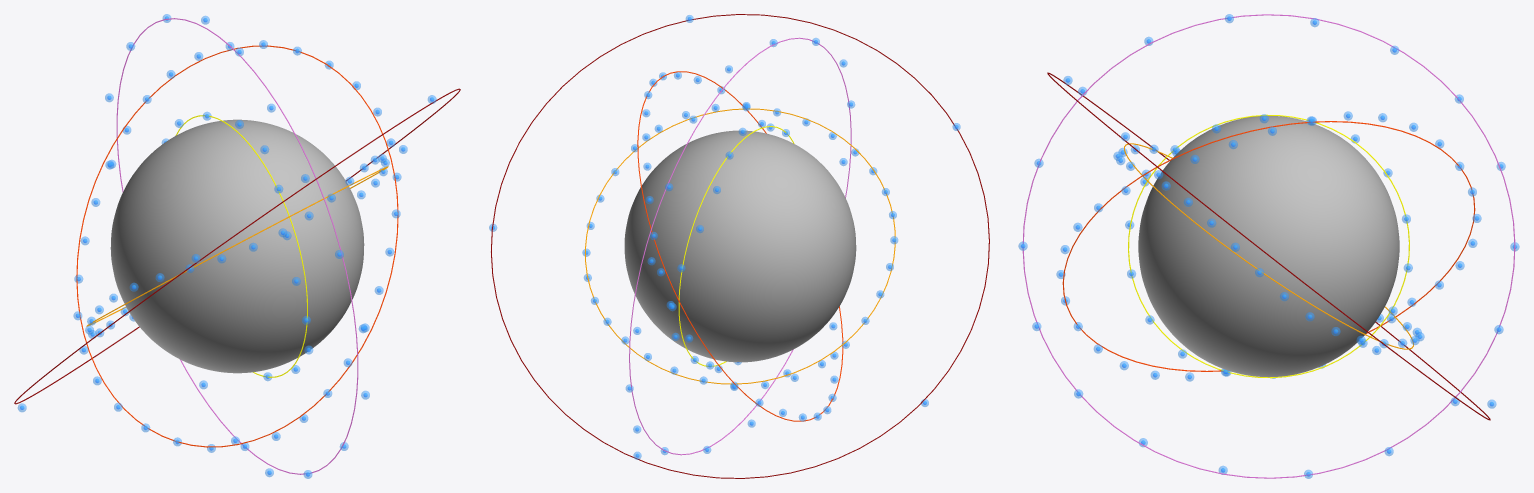
3 views of the same model, side by side, from view 1: azimuth 30°, elevation 25°; view 2: azimuth 150°, elevation 25°; view 3: azimuth 270°, elevation 25° (orthographic). The views are drawn at different scales.
Visible parts, largest first — view 1: Mc, object 126, object 191, object 228, object 61, object 24; view 2: Mc, object 228, object 61, object 191, object 126; view 3: Mc, object 191, object 126, object 228, object 24, object 61.
Part boxes in pixels (x1=…): Mc: x1=110, y1=119, x2=364, y2=373; object 126: x1=76, y1=45, x2=398, y2=447; object 191: x1=116, y1=18, x2=358, y2=474; object 228: x1=14, y1=88, x2=460, y2=404; object 61: x1=86, y1=166, x2=388, y2=326; object 24: x1=175, y1=115, x2=307, y2=377; Mc: x1=624, y1=130, x2=856, y2=362; object 228: x1=491, y1=14, x2=989, y2=478; object 61: x1=585, y1=108, x2=895, y2=384; object 191: x1=629, y1=37, x2=851, y2=455; object 126: x1=637, y1=71, x2=843, y2=421; Mc: x1=1138, y1=116, x2=1399, y2=377; object 191: x1=1022, y1=14, x2=1515, y2=478; object 126: x1=1062, y1=121, x2=1475, y2=371; object 228: x1=1047, y1=72, x2=1490, y2=420; object 24: x1=1128, y1=114, x2=1409, y2=378; object 61: x1=1124, y1=143, x2=1413, y2=349.
Bounding box in the file's own units: 9.15 × 8.42 × 8.56.
